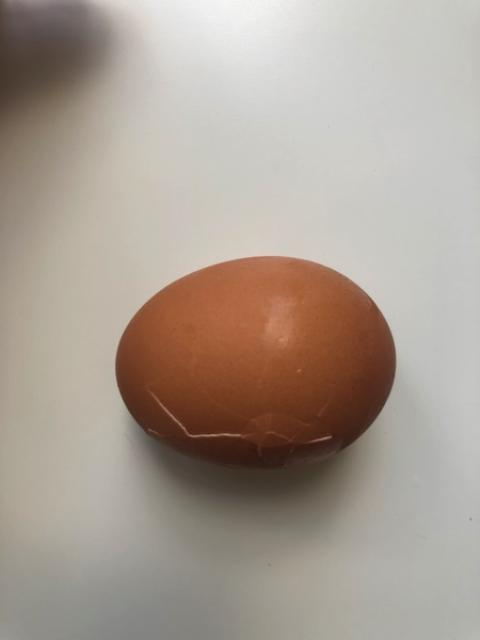Roto: (114, 253, 397, 470)
